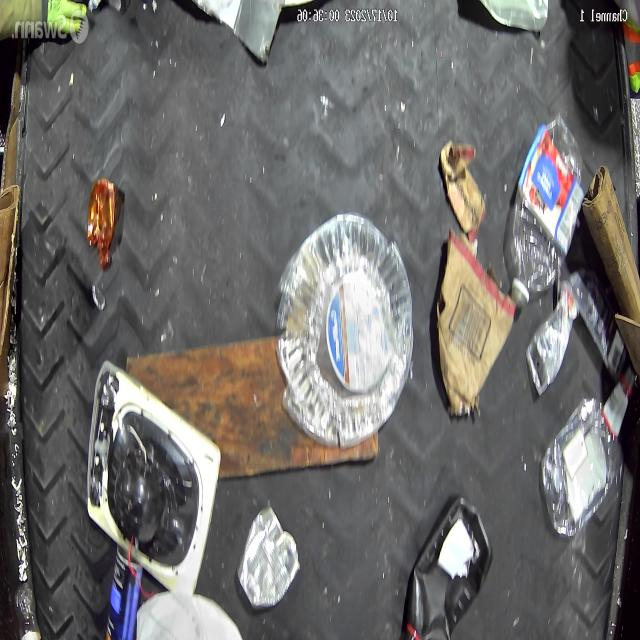can: (237, 502, 300, 608)
non_white_jug: (404, 495, 493, 640)
plastic_bottle: (508, 114, 581, 300)
